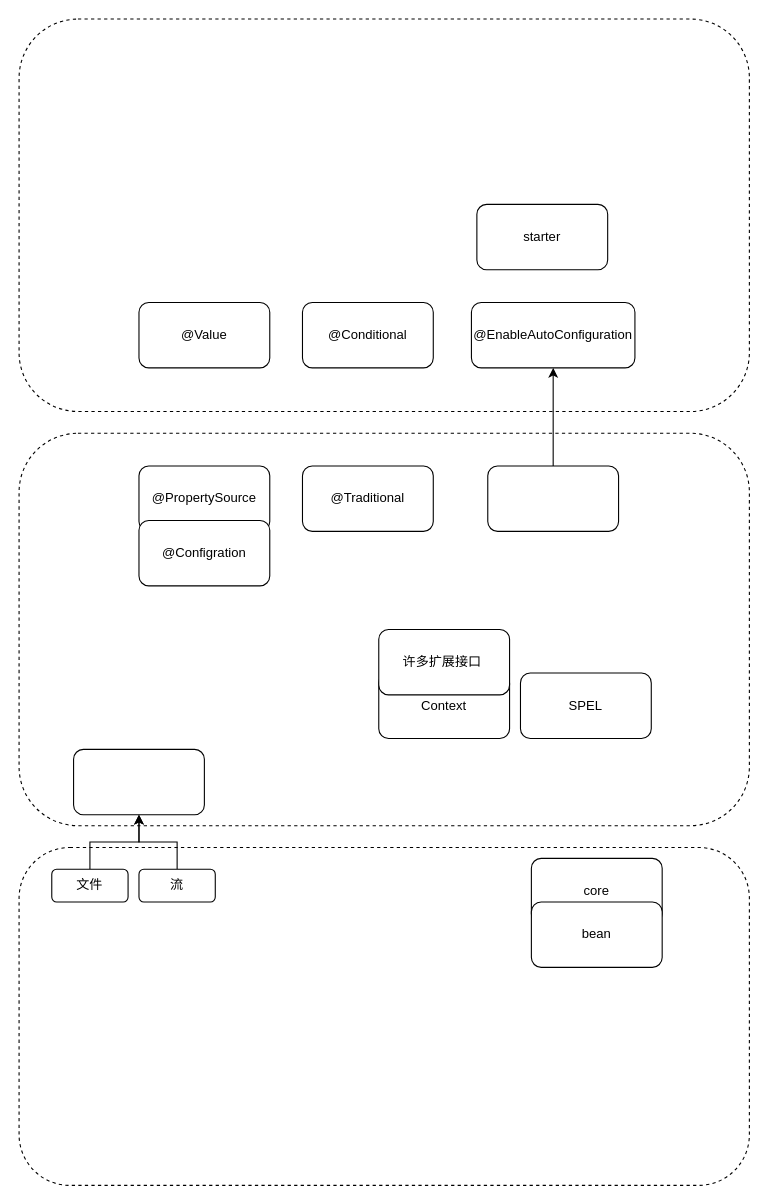
This 768x1204 diagram has some shape labels left out. Here are the shapes that lost their labels. From the top down, the box of each, then its label:
(487, 465, 619, 531): @Import
(72, 748, 204, 815): Source
